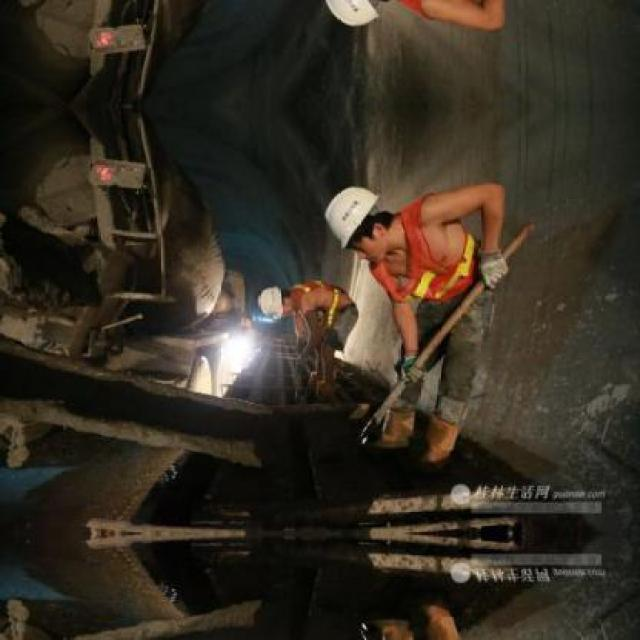helmet: (317, 176, 403, 273), (317, 0, 405, 37), (254, 284, 306, 322)
